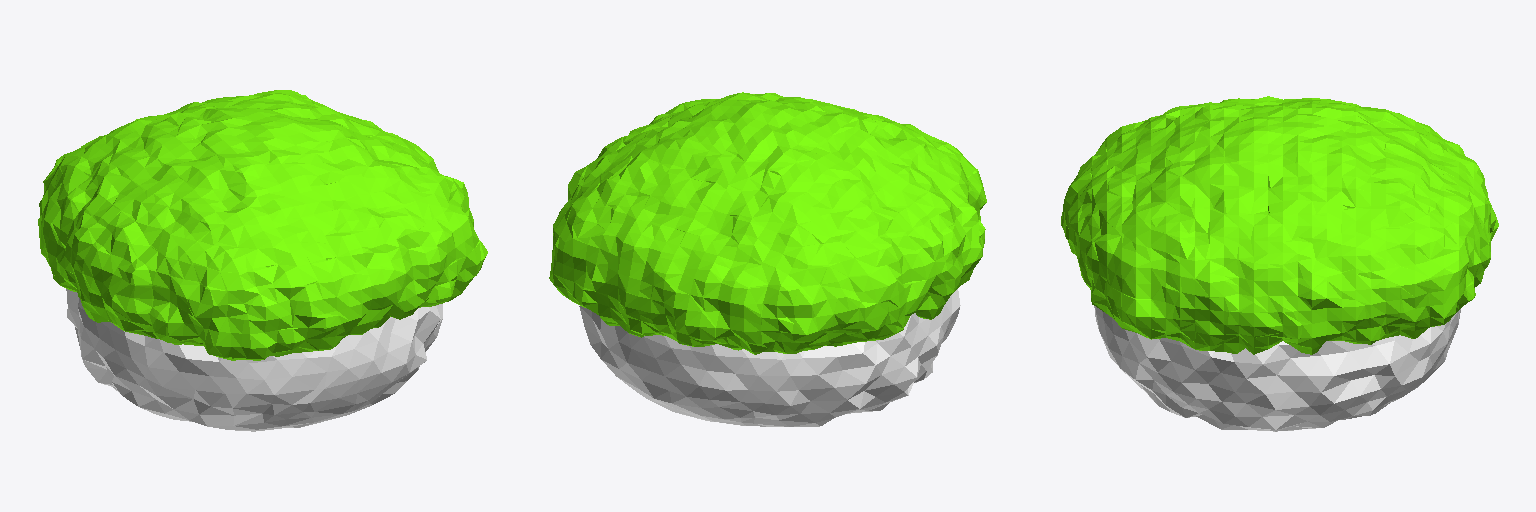
File: Zundamoti.obj
The picture shows the model from 3 angles: view 1: azimuth 30°, elevation 25°; view 2: azimuth 150°, elevation 25°; view 3: azimuth 270°, elevation 25°; orthographic projection.
Visible parts, largest first — view 1: Zunda, Moti; view 2: Zunda, Moti; view 3: Zunda, Moti.
Part boxes in pixels (bbox=[...]): Zunda: bbox=[38, 90, 487, 360]; Moti: bbox=[66, 289, 442, 431]; Zunda: bbox=[549, 92, 986, 354]; Moti: bbox=[579, 289, 960, 426]; Zunda: bbox=[1061, 96, 1498, 354]; Moti: bbox=[1094, 306, 1460, 431].
Bounding box in the file's own units: 2.29 × 1.65 × 2.39.